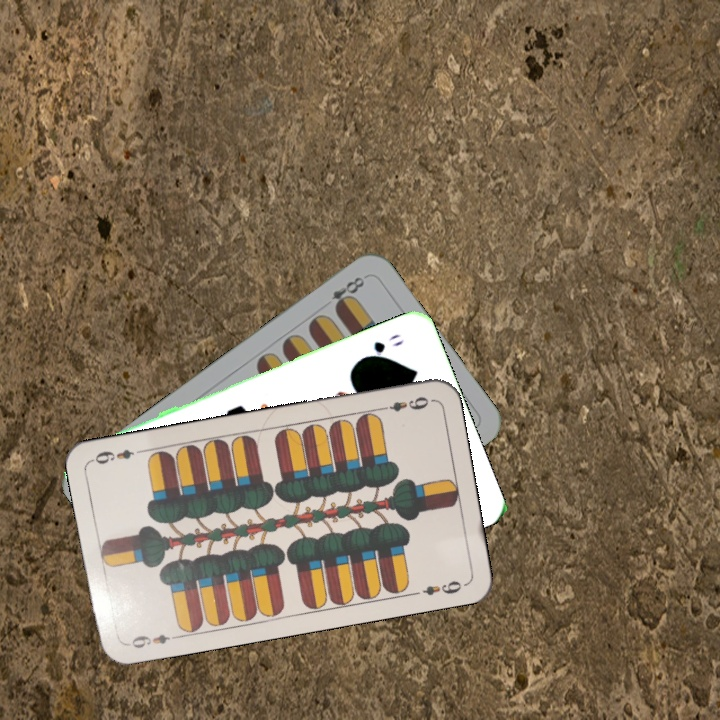E8: (327, 272, 369, 314)
E9: (375, 392, 431, 415), (122, 630, 182, 651)
GO: (356, 329, 406, 363)
